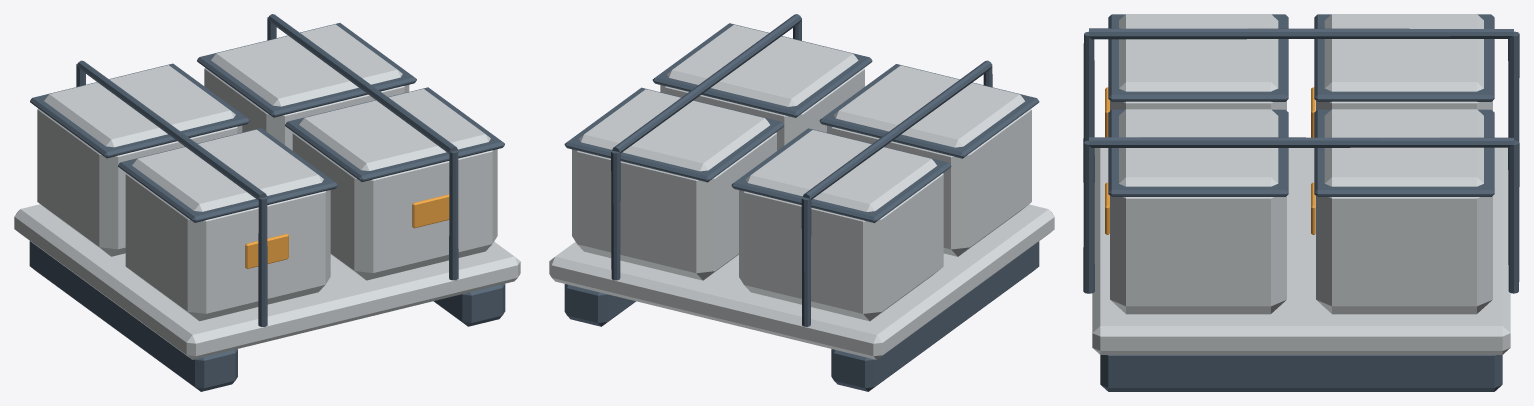
3 views of the same model, side by side, from view 1: azimuth 30°, elevation 25°; view 2: azimuth 150°, elevation 25°; view 3: azimuth 270°, elevation 25° (orthographic). The views are drawn at different scales.
Visible parts, largest first — view 1: ME-006 Restrained cargo pallet batched; view 2: ME-006 Restrained cargo pallet batched; view 3: ME-006 Restrained cargo pallet batched.
Boxes of the visible parts, x1,y1,x2,y2 form: ME-006 Restrained cargo pallet batched: (14,14,520,391); ME-006 Restrained cargo pallet batched: (549,14,1054,391); ME-006 Restrained cargo pallet batched: (1083,14,1519,391).
Size of the model in its own units: 1.4 by 0.768 by 1.36.
